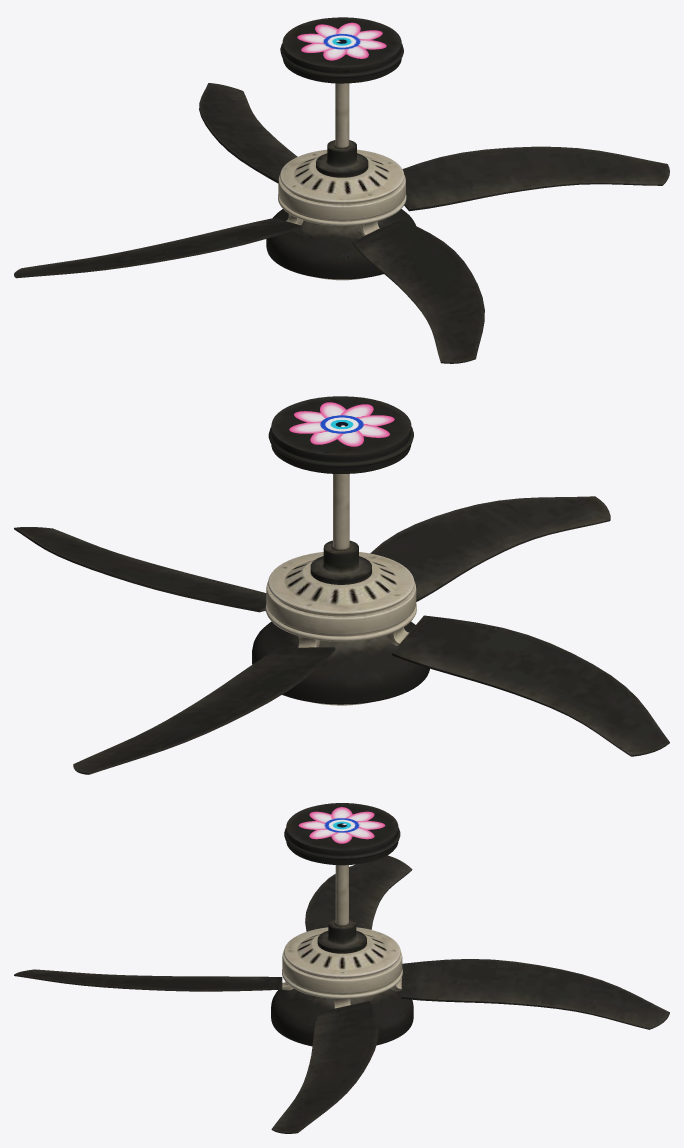
File: nyb_rear_fan.glb
3 views of the same model, one above another, from view 1: azimuth 30°, elevation 25°; view 2: azimuth 150°, elevation 25°; view 3: azimuth 270°, elevation 25° (orthographic). The views are drawn at different scales.
Visible parts, largest first — view 1: ceiling_fan, stk_eyeflower.png; view 2: ceiling_fan, stk_eyeflower.png; view 3: ceiling_fan, stk_eyeflower.png.
Boxes of the visible parts, left/top/right/bottom form: ceiling_fan: left=14, top=17, right=669, bottom=363; stk_eyeflower.png: left=297, top=22, right=386, bottom=60; ceiling_fan: left=14, top=396, right=669, bottom=774; stk_eyeflower.png: left=289, top=402, right=394, bottom=446; ceiling_fan: left=14, top=803, right=669, bottom=1133; stk_eyeflower.png: left=298, top=807, right=385, bottom=843.
Size of the model in its own units: 1.46 by 0.5188 by 1.46.
Materials: 2 (2 with a texture image).
